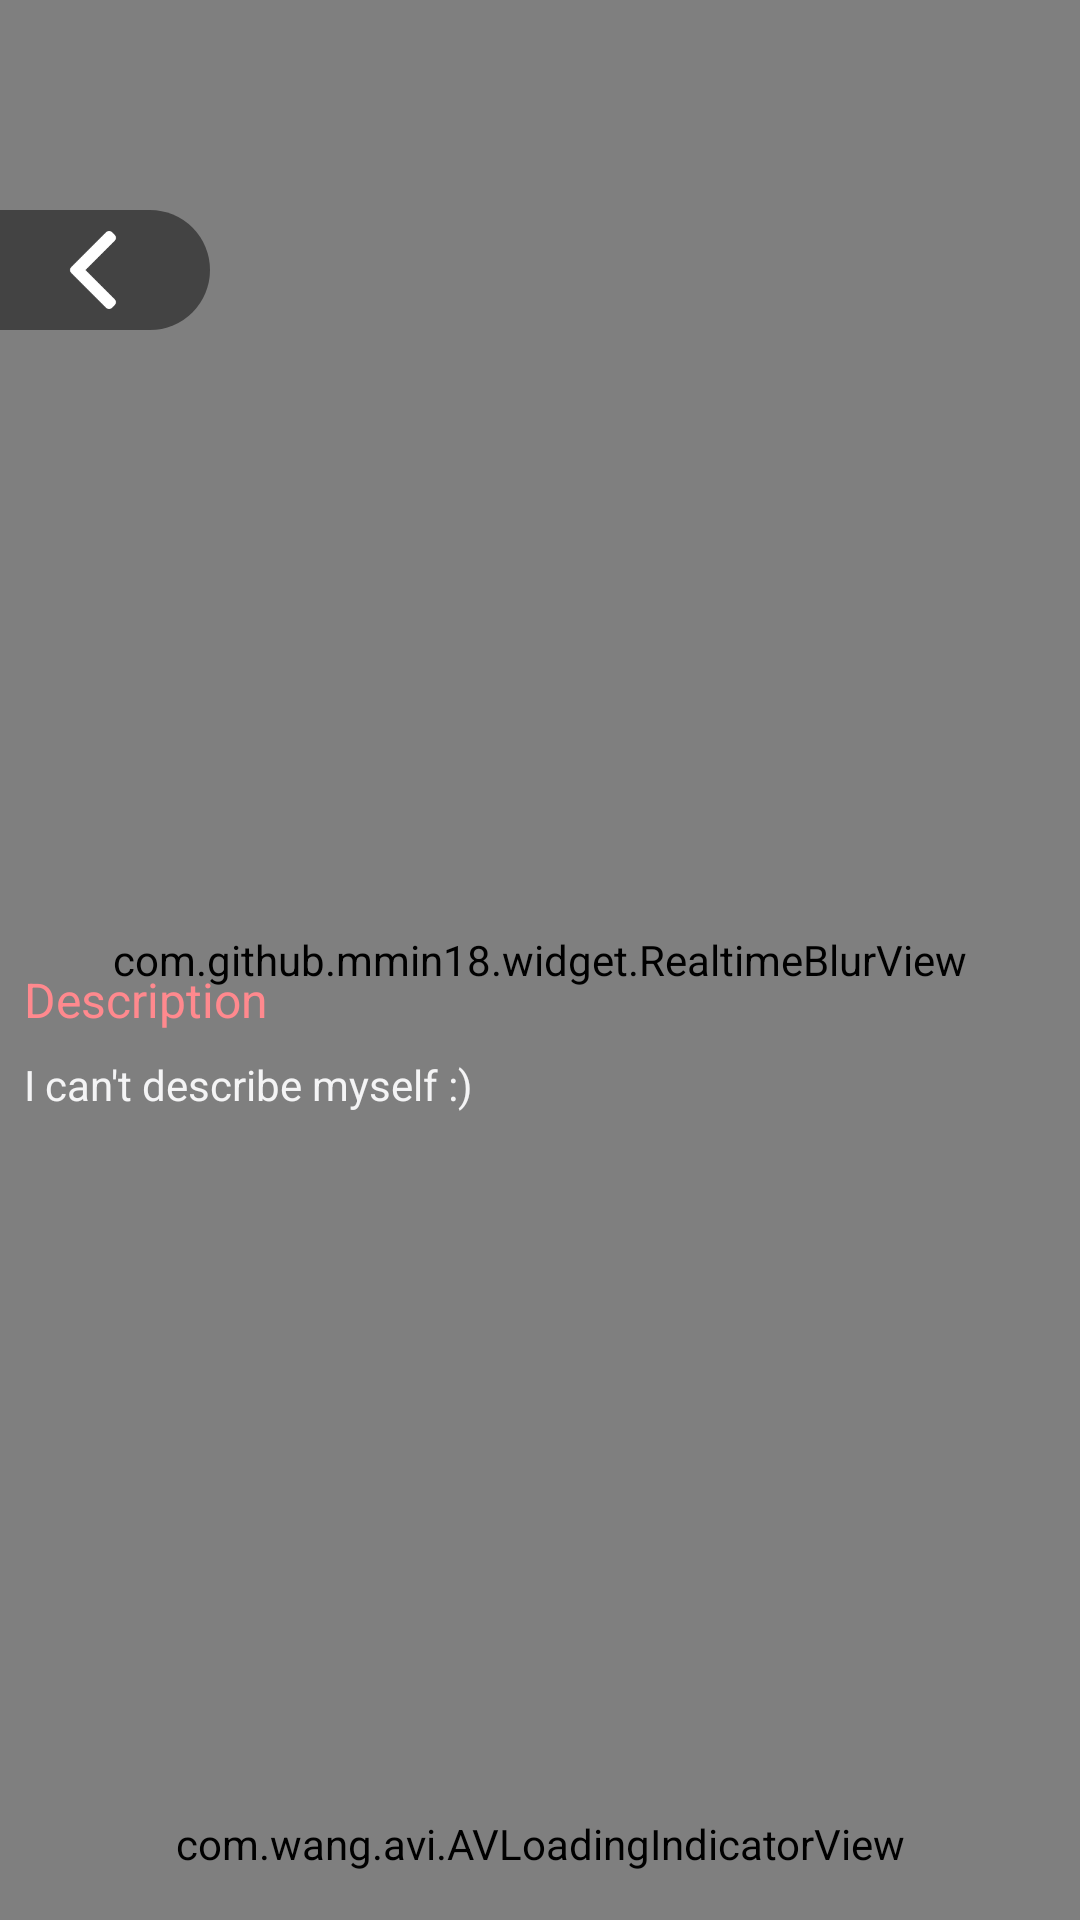

Where to tap for icons on this 1080 × 1920 app screen, as (x,y):
back: (93,270)
